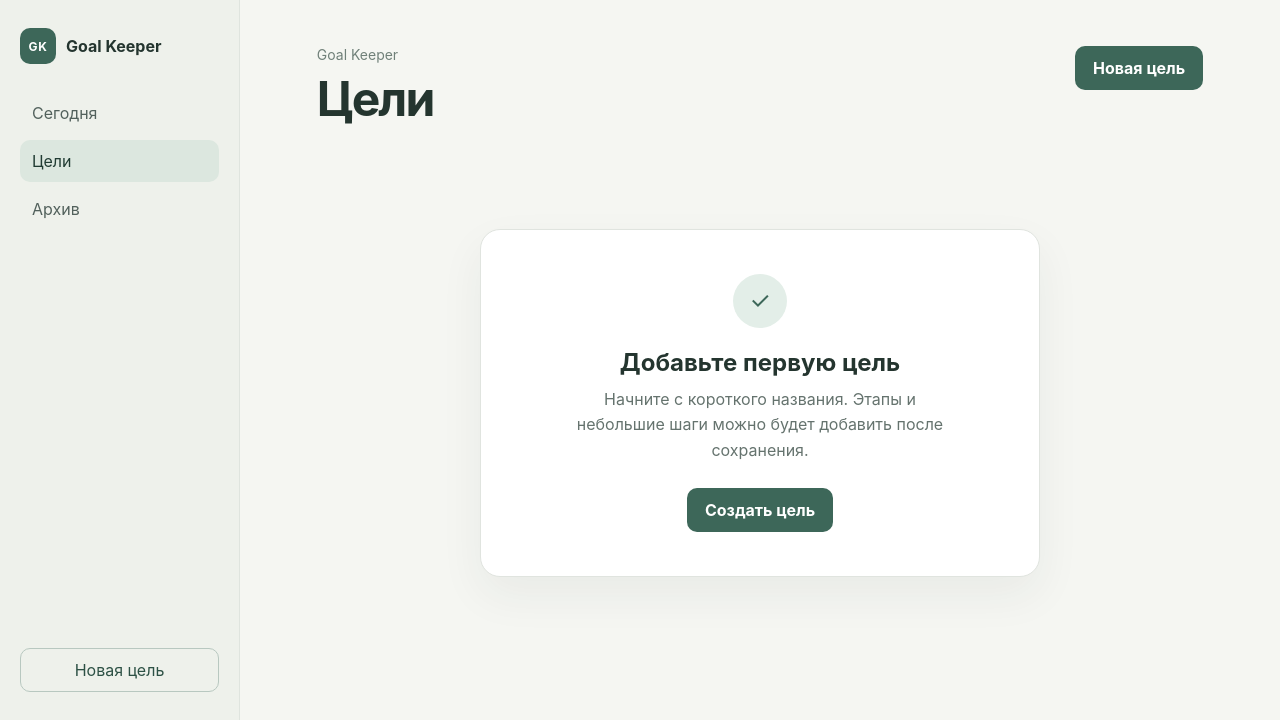
App › создаёт цель и сразу показывает её в списке
Click the button "Создать цель" at (760, 510), box [687,488,833,532]
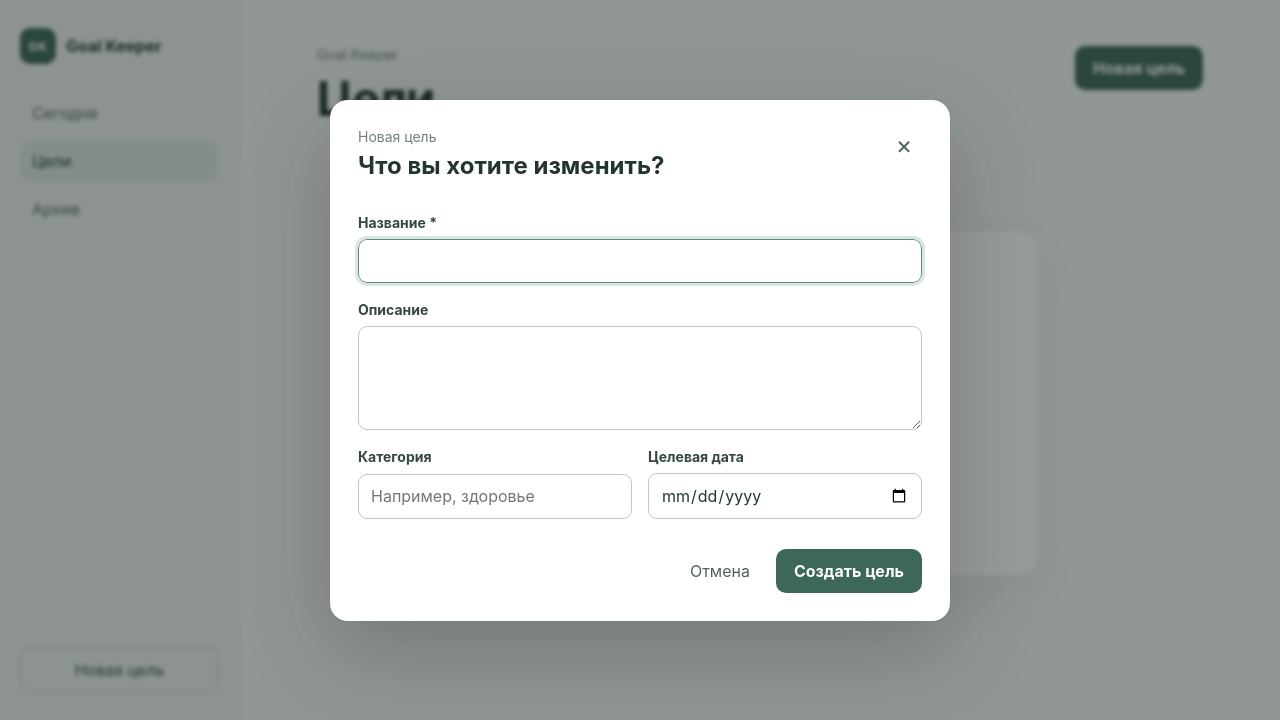
Type "  Подготовить поездку  " into the field labelled "Название *" at (640, 260), box [358,238,922,282]
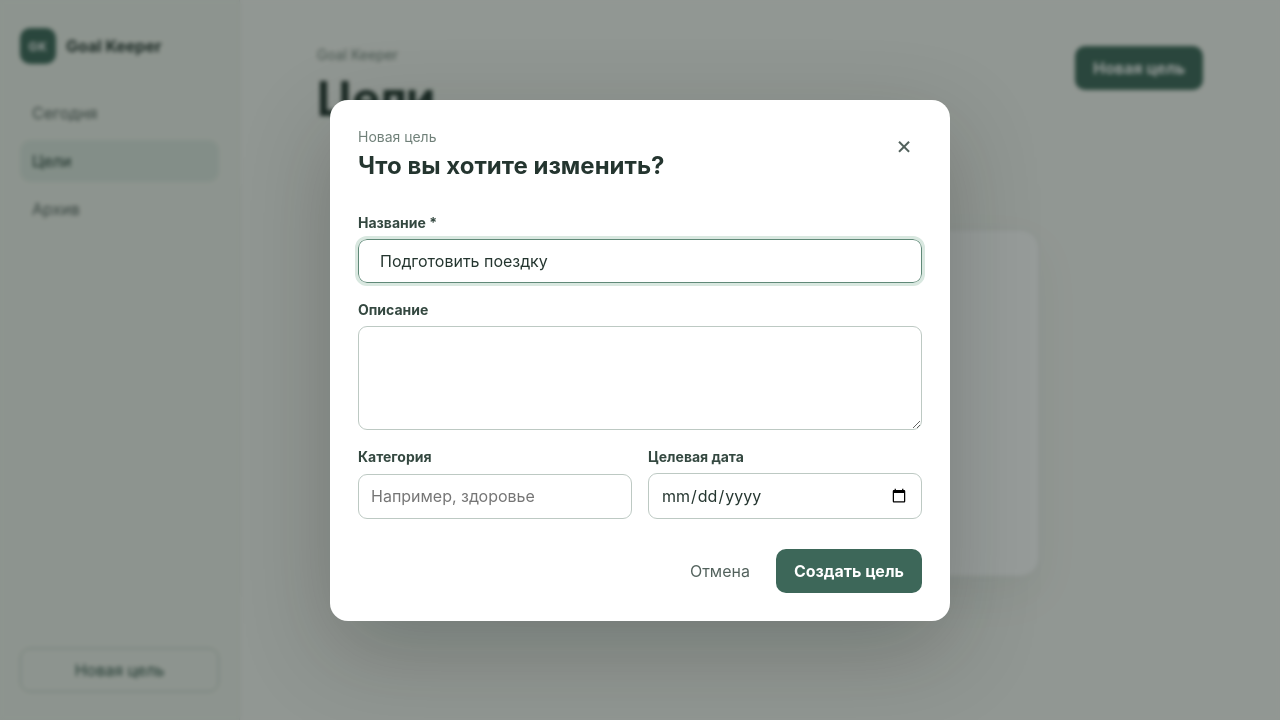
Type "Личное" into the field labelled "Категория" at (495, 496), box [358,474,632,518]
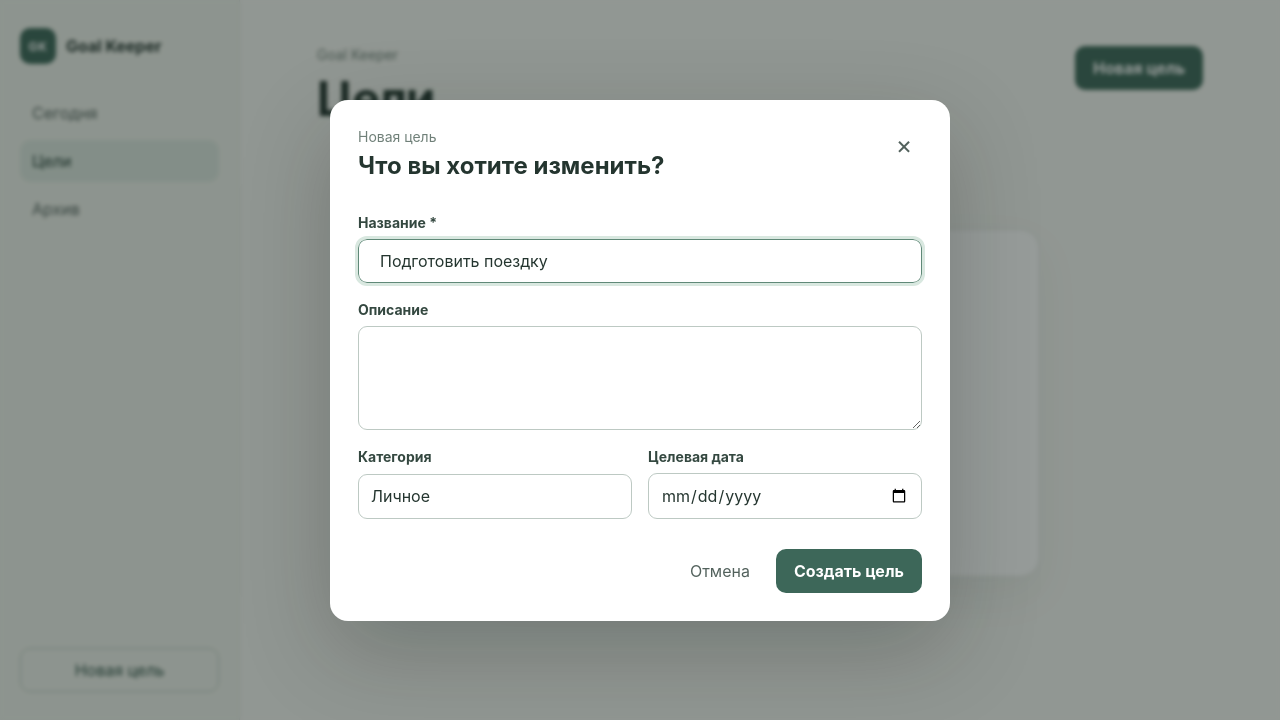
Click the button "Создать цель" at (849, 570), box [776,548,922,592]
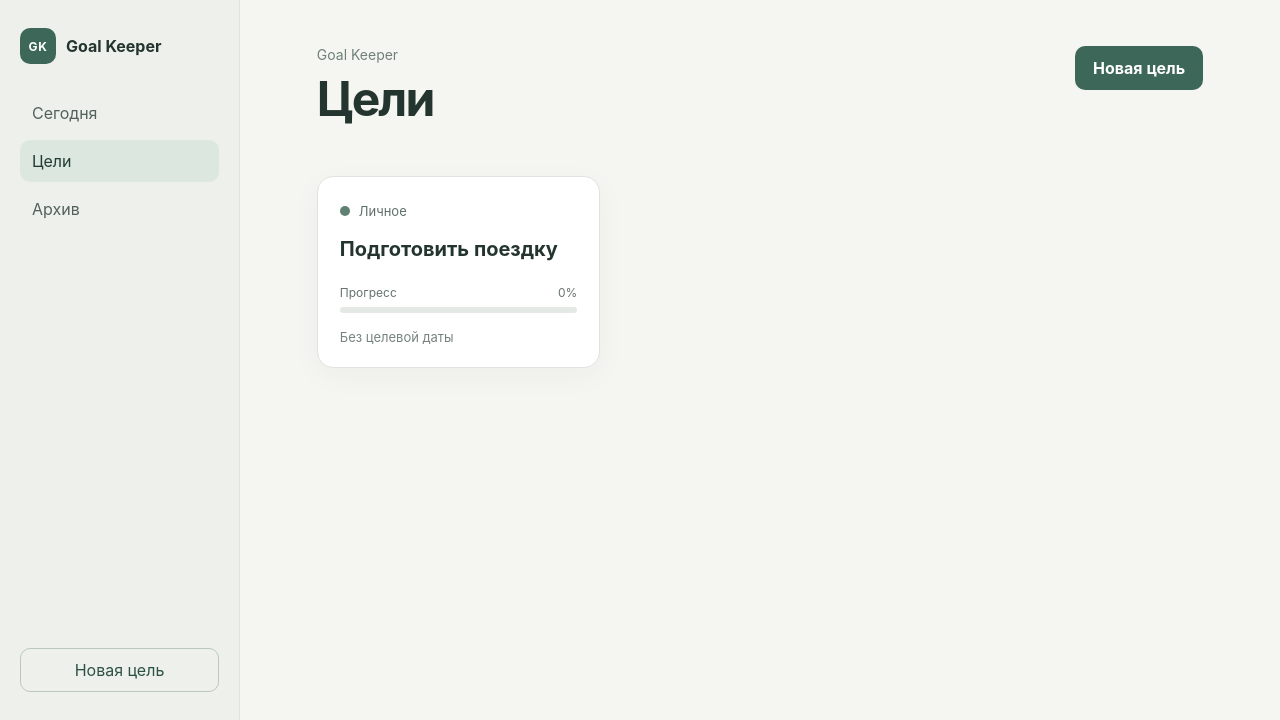
Expected: the heading "Подготовить поездку" is shown, [340,237,577,261]
